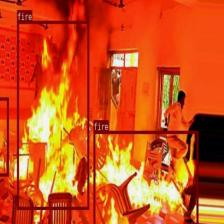fire: (17, 20, 89, 210), (92, 130, 198, 224), (0, 96, 8, 176)
